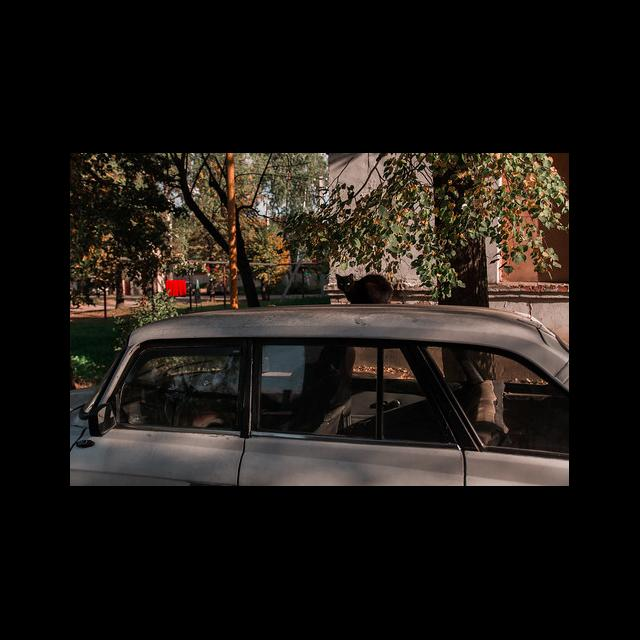animals: (335, 274, 392, 306)
